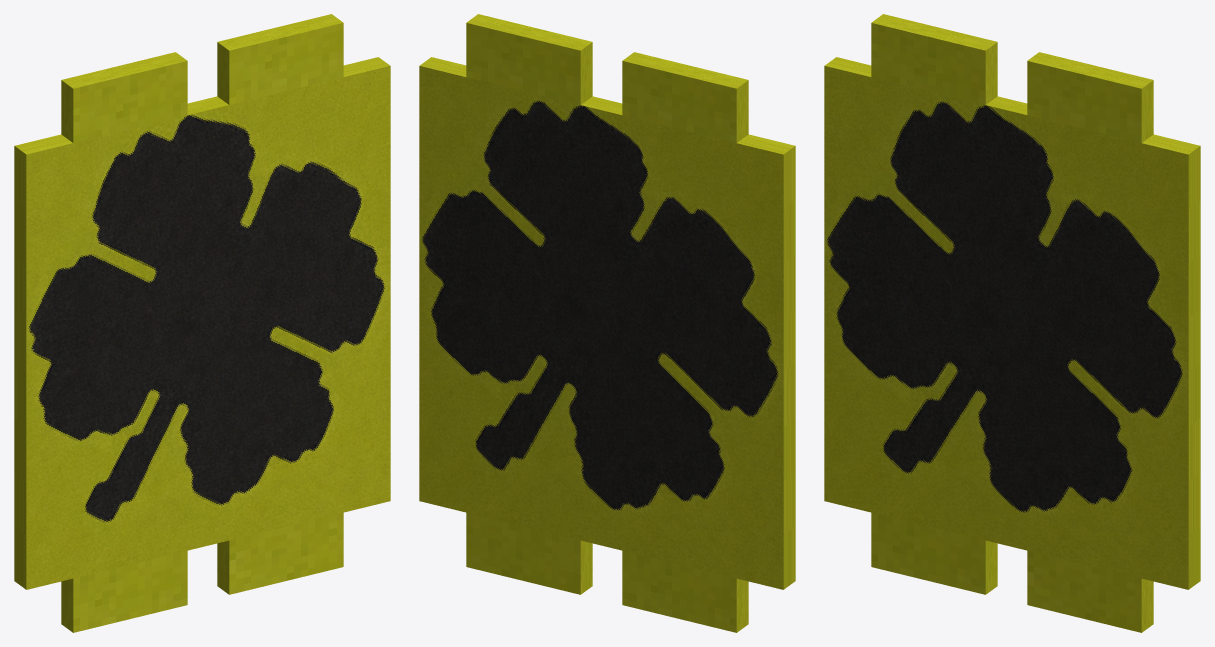
Rendered from bilet_model.glb.
3 views of the same model, side by side, from view 1: azimuth 30°, elevation 25°; view 2: azimuth 150°, elevation 25°; view 3: azimuth 330°, elevation 25° (orthographic).
Parts seen in each view (by area): view 1: mesh (×5); view 2: mesh (×5); view 3: mesh (×5).
Boxes of the visible parts, box(x1,y1,x2,y2) form: mesh (×5): box(14, 14, 390, 632); mesh (×5): box(419, 14, 795, 632); mesh (×5): box(824, 14, 1200, 632).
Size of the model in its own units: 0.4375 by 0.625 by 0.025.
1 material, 1 textured.
